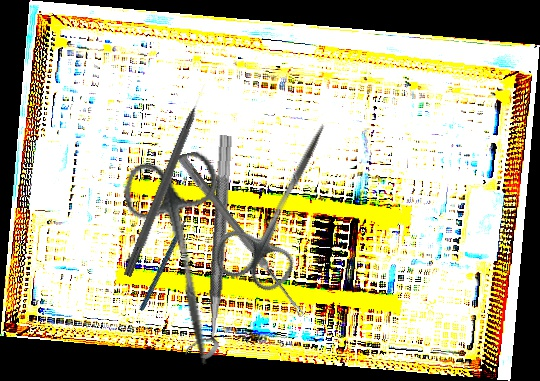Chopper: (108, 198, 222, 312)
Fixation Ring: (184, 133, 234, 360)
Hook Surgical: (122, 83, 211, 279)
Iris Scissors: (117, 148, 255, 374), (207, 105, 356, 300)
Surgical Spoon: (175, 153, 308, 319)
